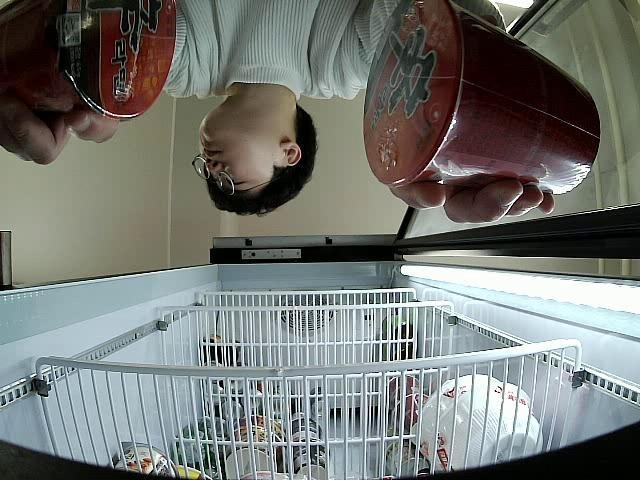02_shinRamen_S: (362, 0, 602, 196), (0, 0, 179, 121)
